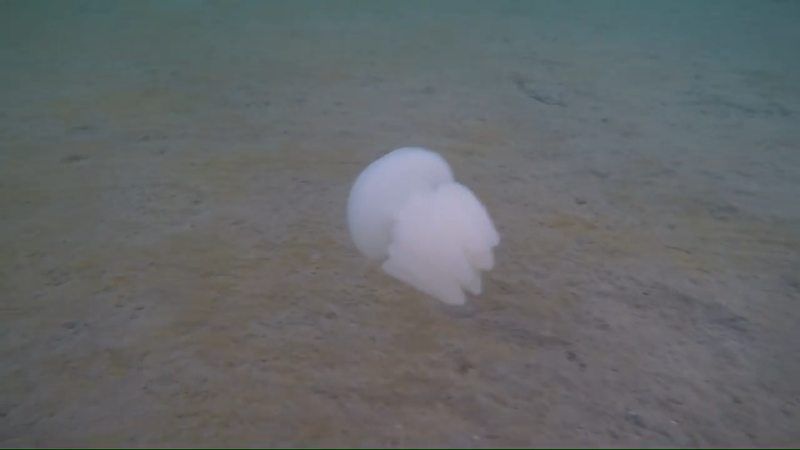white jellyfish: (344, 150, 505, 302)
